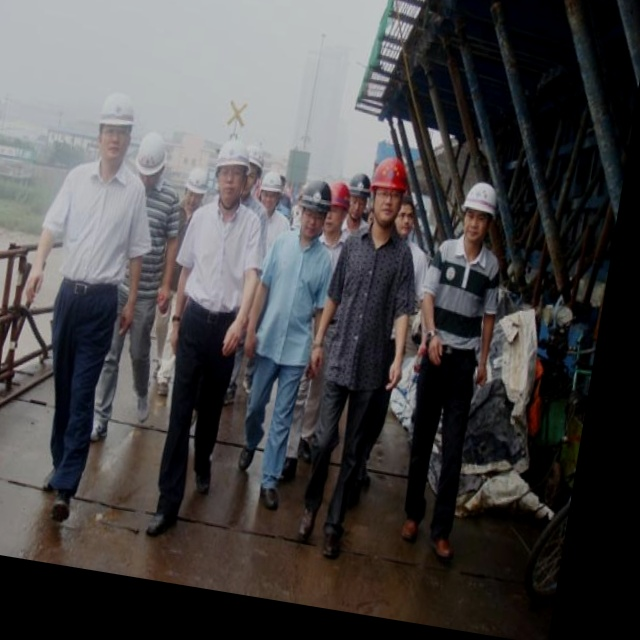Con_Casco: (364, 155, 411, 229), (455, 180, 501, 251)
Sin_Chaleco: (171, 194, 267, 327), (56, 159, 146, 293)
